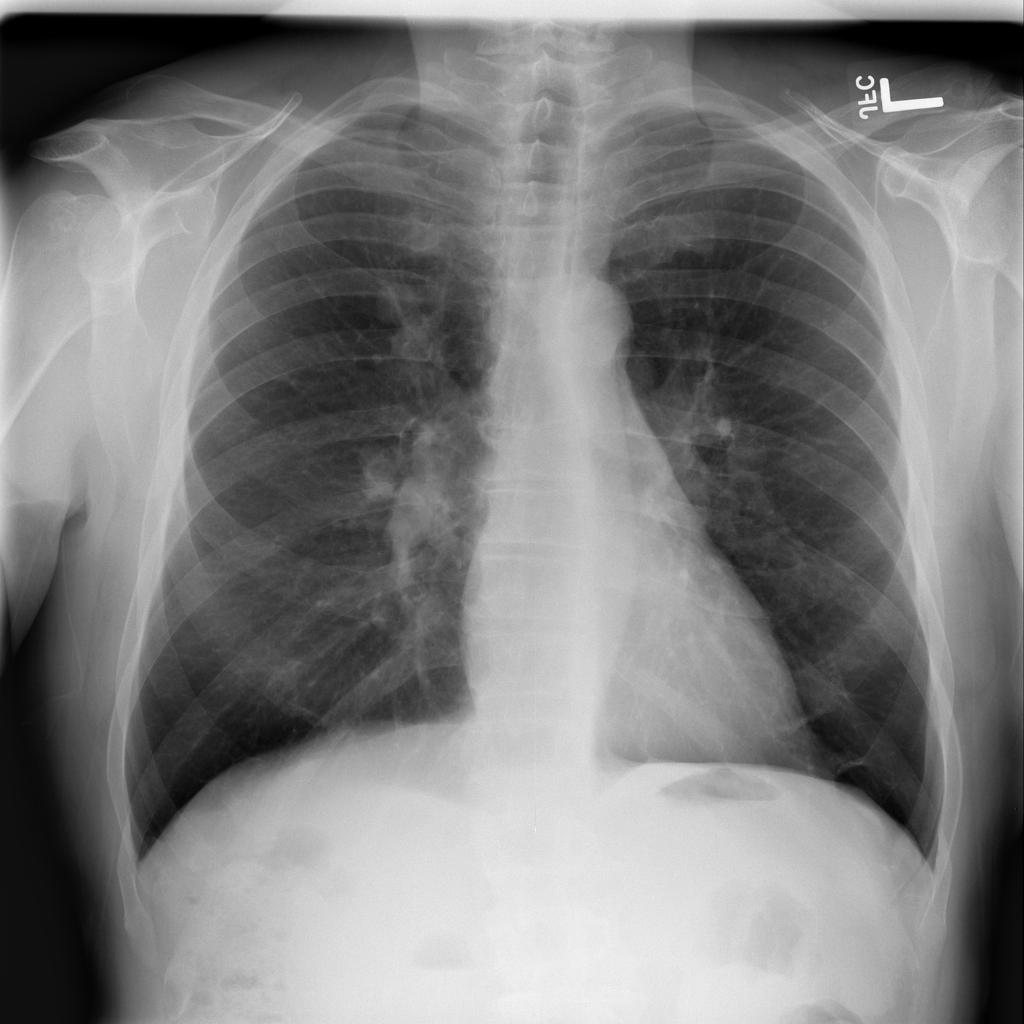nodule: (345, 266, 459, 371), (337, 447, 408, 507)
